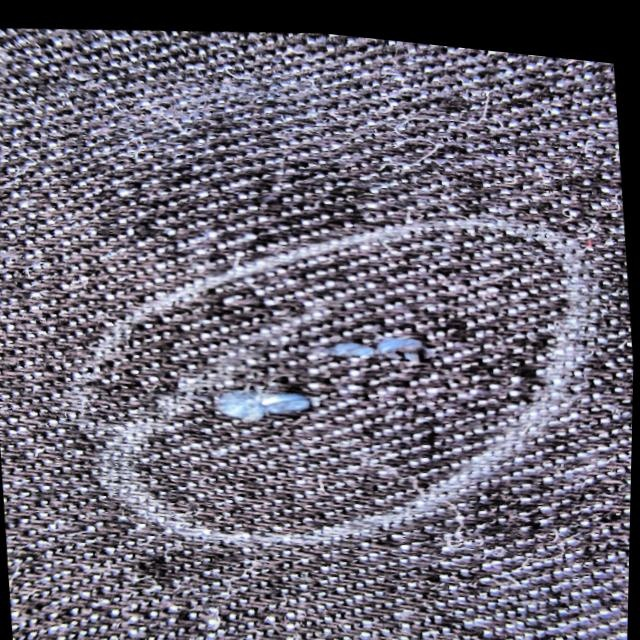Hole: (215, 380, 314, 425)
